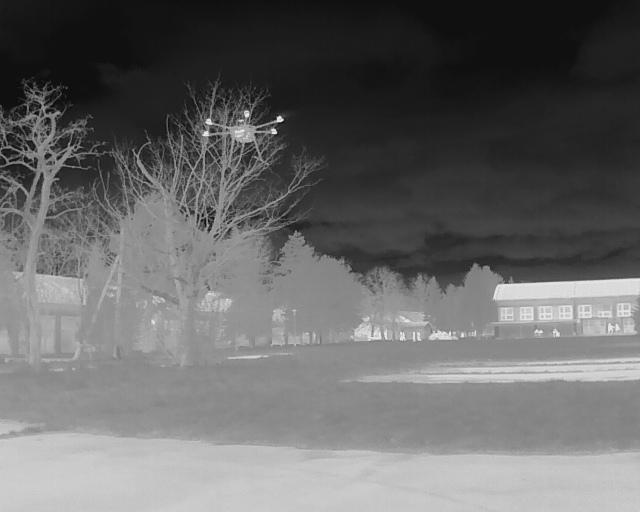drone: (196, 91, 286, 181)
